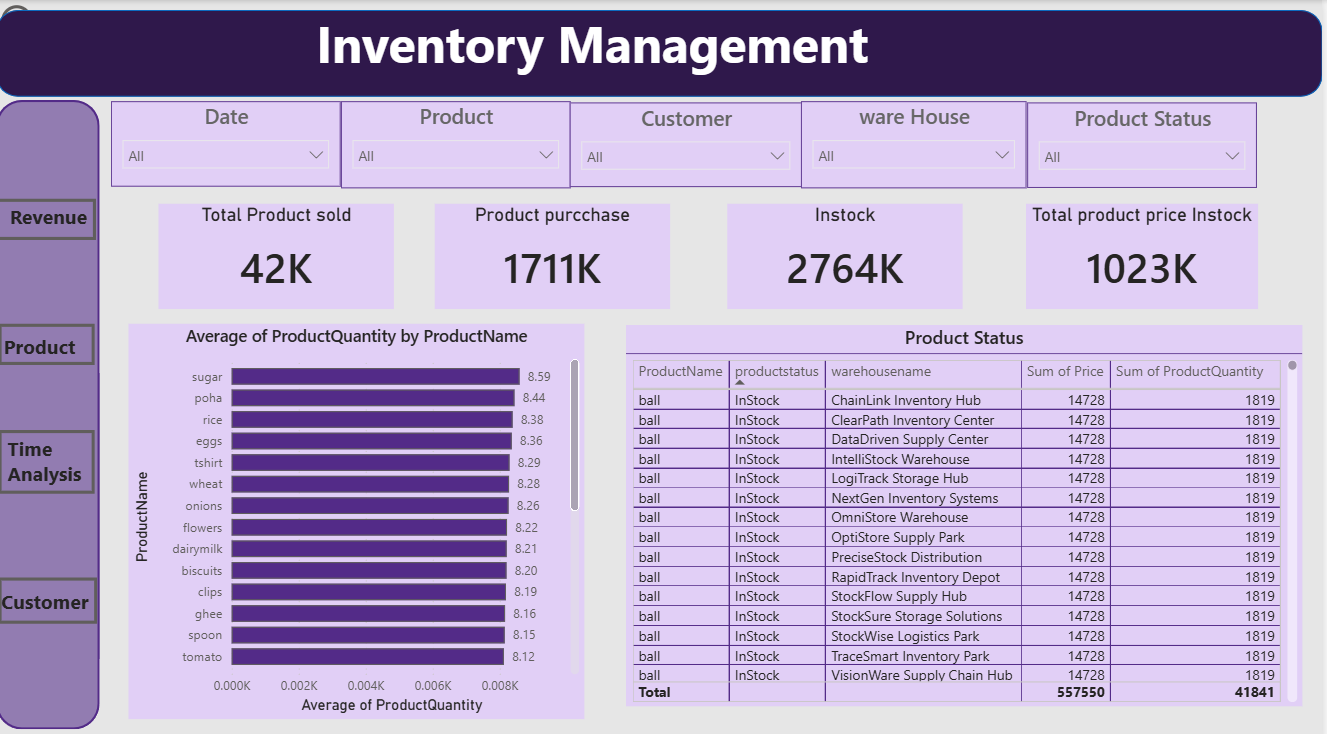

Layout of this report page (visuals, bound fields, positions):
{"tool":"powerbi","page":{"name":"Page 2","canvas":[1280,720],"ordinal":1},"visuals":[{"type":"actionButton","box":[0,191.8,96.5,39.8],"z":0,"group":"g1"},{"type":"barChart","fields":{"Category":["dim_product.ProductName"],"Y":["Avg(factorderstatus.ProductQuantity)"]},"box":[127.5,312.5,440,381.2],"z":0},{"type":"textbox","box":[2.7,316.9,88.1,38.6],"z":0,"group":"g3"},{"type":"actionButton","box":[2.4,415,92.9,61.5],"z":0,"group":"g2"},{"type":"actionButton","box":[2.4,557.4,95.3,44.6],"z":0,"group":"g4"},{"type":"textbox","box":[8.4,191.8,88.1,38.6],"z":1000,"group":"g1"},{"type":"card","title":"Instock","fields":{"Values":["Sum(factproductstatus.ProductQuantity)"]},"box":[706.2,196.2,227.5,101.2],"z":1000},{"type":"actionButton","box":[2.4,312.5,92.9,39.8],"z":1000,"group":"g3"},{"type":"textbox","box":[6,415,90.5,61.5],"z":1000,"group":"g2"},{"type":"textbox","box":[0,563.3,103.8,38.6],"z":1000,"group":"g4"},{"type":"actionButton","box":[0,0,100,40],"z":2000},{"type":"card","title":"Product purcchase","fields":{"Values":["Sum(factproductpurchase.Quantity)"]},"box":[423.8,196.2,227.5,101.2],"z":3000},{"type":"card","title":"Total Product sold","fields":{"Values":["Sum(factinventoryproduct.ProductQuantity)"]},"box":[156.2,196.2,227.5,101.2],"z":4000},{"type":"card","title":"Total product price Instock","fields":{"Values":["Sum(factproductstatus.Price)"]},"box":[993.8,196.2,223.8,101.2],"z":5000},{"type":"tableEx","title":"Product Status","fields":{"Values":["dim_product.ProductName","dim_productstatus.productstatus","dim_warehouse.warehousename","Sum(factinventoryproduct.Price)","Sum(factinventoryproduct.ProductQuantity)"]},"box":[608,313.7,652.7,368],"z":6000},{"type":"shape","box":[0,96.2,100,607.5],"z":8000},{"type":"shape","box":[0,10,1280.3,83.7],"z":13000},{"type":"textbox","box":[303.8,3.8,563.8,73.8],"z":14000},{"type":"slicer","title":"Date","fields":{"Values":["dim_date.Date"]},"box":[111.2,97.5,221.2,82.5],"z":15000},{"type":"slicer","title":"Product","fields":{"Values":["dim_product.ProductName"]},"box":[332.5,97.5,221.2,83.8],"z":16000},{"type":"slicer","title":"Customer","fields":{"Values":["dim_customer.CustomerName"]},"box":[553.8,98.8,223.8,81.2],"z":17000},{"type":"slicer","title":"ware House","fields":{"Values":["dim_warehouse.warehousename"]},"box":[777.5,97.5,217.5,83.8],"z":18000},{"type":"slicer","title":"Product Status","fields":{"Values":["dim_productstatus.productstatus"]},"box":[995,98.8,221.2,82.5],"z":19000},{"type":"group","id":"g1","title":"Group 1","box":[0,191.8,96.5,39.8],"z":19001},{"type":"group","id":"g2","title":"Group 4","box":[2.4,415,94.1,61.5],"z":19002},{"type":"group","id":"g3","title":"Group 2","box":[2.4,312.5,92.9,43.4],"z":19003},{"type":"group","id":"g4","title":"Group 3","box":[0,557.4,103.8,44.6],"z":19004}]}

Visuals, with their boxes in screenshot pixels (x1, y1, x2, y2), scaled from the page's 1280x720 canvas onto the 1327x734 screenshot:
actionButton: [0,196,100,236]
barChart - dim_product.ProductName x Avg(factorderstatus.ProductQuantity): [132,319,588,707]
textbox: [3,323,94,362]
actionButton: [2,423,99,486]
actionButton: [2,568,101,614]
textbox: [9,196,100,235]
"Instock" card: [732,200,968,303]
actionButton: [2,319,99,359]
textbox: [6,423,100,486]
textbox: [0,574,108,614]
actionButton: [0,0,104,41]
"Product purcchase" card: [439,200,675,303]
"Total Product sold" card: [162,200,398,303]
"Total product price Instock" card: [1030,200,1262,303]
"Product Status" tableEx: [630,320,1307,695]
shape: [0,98,104,717]
shape: [0,10,1326,96]
textbox: [315,4,899,79]
"Date" slicer: [115,99,345,184]
"Product" slicer: [345,99,574,185]
"Customer" slicer: [574,101,806,184]
"ware House" slicer: [806,99,1032,185]
"Product Status" slicer: [1032,101,1261,185]
"Group 1" group: [0,196,100,236]
"Group 4" group: [2,423,100,486]
"Group 2" group: [2,319,99,363]
"Group 3" group: [0,568,108,614]
